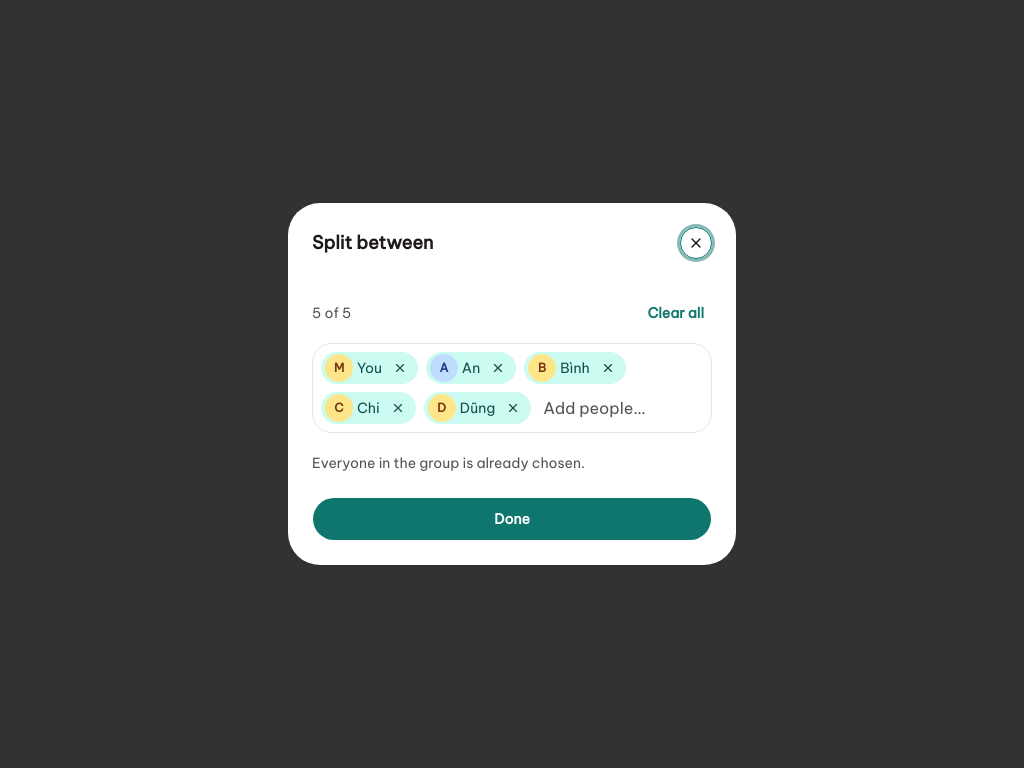
Test: SplitPeopleSheet, any group size › removing a chip takes the person out
Click the button named "Remove An": click(498, 368) [484,354,512,382]
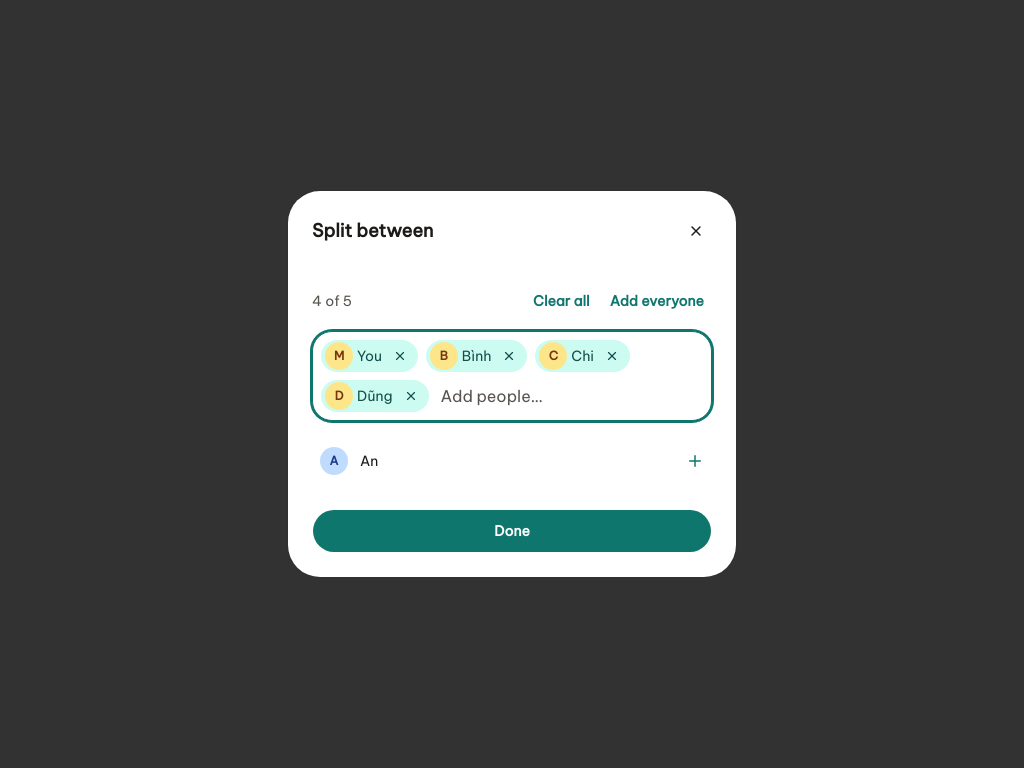
Now the text "4 of 5" is shown, box [312,291,352,311]
